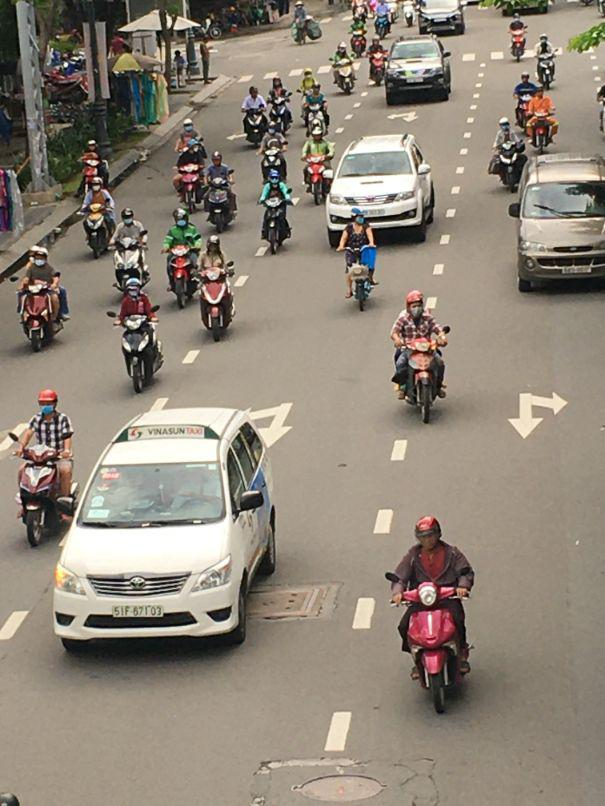car: (48, 412, 278, 653), (513, 153, 604, 295), (324, 136, 438, 247), (383, 36, 452, 106), (419, 0, 466, 38)
motorbike: (391, 579, 475, 716), (15, 448, 70, 547), (396, 336, 448, 422), (118, 316, 160, 394), (197, 269, 236, 343), (19, 288, 59, 353), (166, 247, 202, 312), (257, 194, 293, 257), (489, 138, 529, 193), (202, 179, 238, 233), (82, 205, 116, 261), (172, 159, 206, 214), (526, 97, 560, 151), (347, 255, 377, 311), (304, 149, 333, 202), (538, 42, 558, 88), (510, 22, 527, 60)
